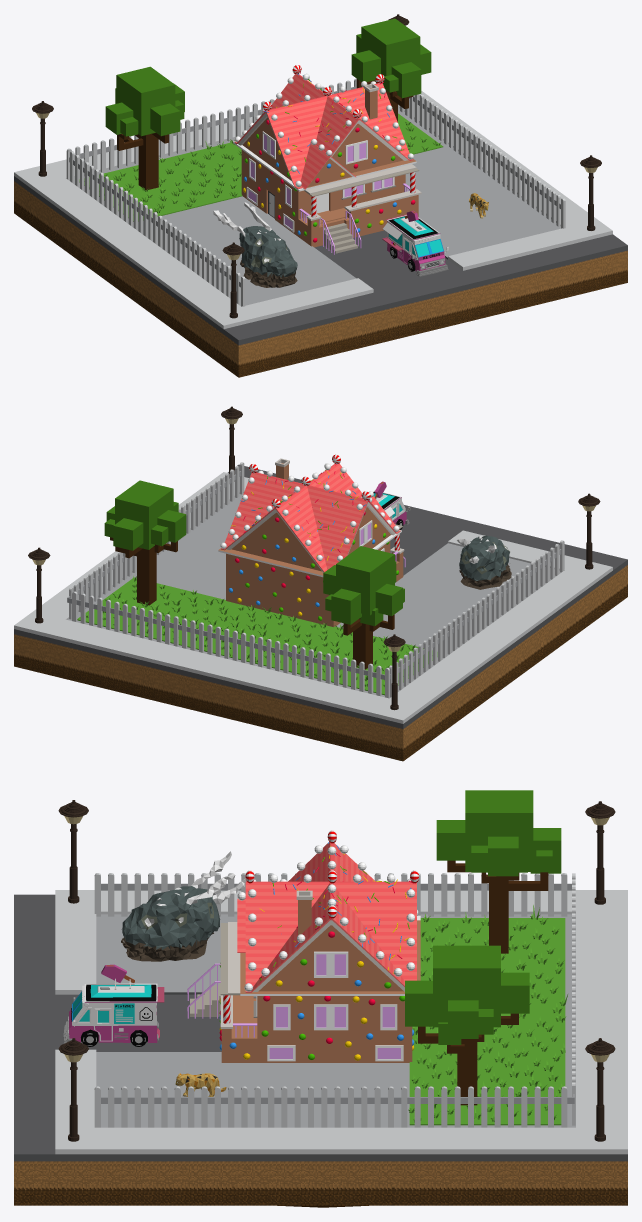
3 views of the same model, one above another, from view 1: azimuth 30°, elevation 25°; view 2: azimuth 150°, elevation 25°; view 3: azimuth 270°, elevation 25° (orthographic). The views are drawn at different scales.
Parts seen in each view (by area): view 1: Cube.004, Cube.1203, OBJRANDOM_METEORITE, VEHICLES_ICE_CREAM_TRUCK; view 2: Cube.004, Cube.1203, OBJRANDOM_METEORITE, VEHICLES_ICE_CREAM_TRUCK; view 3: Cube.004, Cube.1203, OBJRANDOM_METEORITE, VEHICLES_ICE_CREAM_TRUCK, ANIMAL_JAGUAR.
Boxes of the visible parts, x1=… form: Cube.004: x1=14, y1=14, x2=627, y2=377; Cube.1203: x1=233, y1=65, x2=421, y2=254; OBJRANDOM_METEORITE: x1=213, y1=202, x2=297, y2=287; VEHICLES_ICE_CREAM_TRUCK: x1=382, y1=210, x2=448, y2=276; Cube.004: x1=14, y1=406, x2=627, y2=761; Cube.1203: x1=218, y1=454, x2=405, y2=626; OBJRANDOM_METEORITE: x1=457, y1=535, x2=511, y2=589; VEHICLES_ICE_CREAM_TRUCK: x1=373, y1=481, x2=410, y2=529; Cube.004: x1=14, y1=790, x2=627, y2=1205; Cube.1203: x1=187, y1=830, x2=420, y2=1062; OBJRANDOM_METEORITE: x1=121, y1=851, x2=246, y2=961; VEHICLES_ICE_CREAM_TRUCK: x1=63, y1=964, x2=164, y2=1046; ANIMAL_JAGUAR: x1=175, y1=1073, x2=226, y2=1096.
Size of the model in its own units: 4000 by 1669 by 4000.
53 materials, 4 textured.
